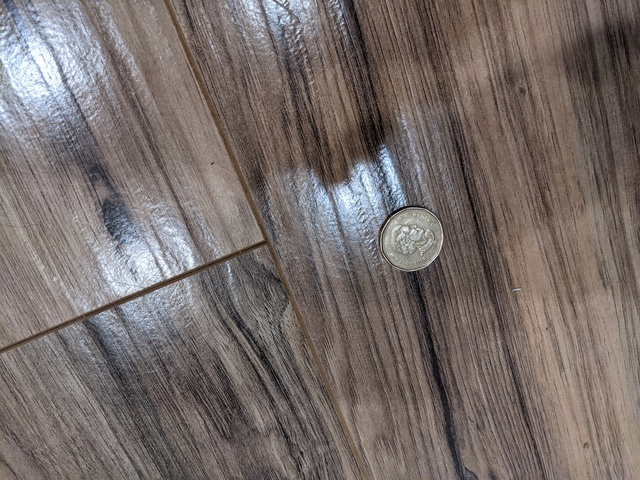loonie: (367, 190, 445, 281)
